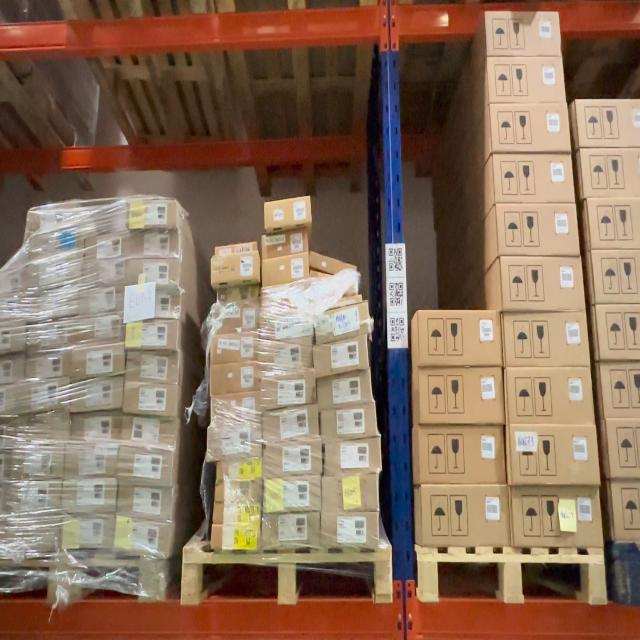box: (420, 484, 511, 550), (509, 487, 604, 548), (508, 422, 599, 485), (418, 423, 508, 484), (505, 367, 594, 427), (416, 364, 504, 424), (417, 307, 502, 366), (503, 312, 590, 368), (500, 254, 585, 310), (496, 202, 579, 259), (493, 153, 574, 205), (490, 101, 570, 153), (485, 10, 562, 60), (487, 56, 567, 104), (314, 334, 370, 378), (323, 437, 383, 478), (262, 439, 323, 479), (313, 302, 372, 343), (260, 512, 322, 551), (320, 511, 379, 551), (262, 475, 322, 514), (259, 372, 317, 411), (321, 402, 379, 441), (204, 422, 262, 461), (263, 402, 320, 441), (114, 516, 171, 555), (317, 374, 375, 411), (322, 477, 379, 514), (117, 447, 172, 485), (7, 482, 62, 520), (120, 417, 178, 451), (258, 344, 314, 379), (62, 479, 118, 514), (23, 285, 77, 321), (28, 252, 85, 286), (69, 377, 124, 412), (63, 514, 115, 551), (123, 382, 177, 417), (126, 350, 179, 385), (72, 344, 125, 379), (13, 445, 66, 480), (65, 444, 117, 479), (258, 311, 313, 344), (6, 522, 59, 556), (20, 377, 71, 412), (116, 488, 173, 519), (210, 330, 259, 366), (209, 361, 259, 396), (261, 251, 310, 286), (211, 392, 261, 426), (27, 320, 80, 352), (208, 303, 260, 335), (210, 251, 260, 284), (130, 287, 180, 320), (310, 271, 360, 302), (126, 319, 177, 349), (29, 226, 80, 256), (264, 196, 313, 226), (130, 229, 180, 258), (209, 525, 262, 551), (18, 413, 69, 440), (260, 230, 308, 258), (84, 232, 130, 261), (215, 456, 262, 484), (78, 287, 123, 316), (264, 283, 316, 308), (71, 416, 123, 441), (25, 352, 72, 379), (29, 211, 86, 233), (130, 198, 176, 225), (210, 502, 261, 526), (130, 259, 178, 284), (81, 259, 129, 284), (78, 319, 125, 343), (215, 286, 261, 308), (213, 482, 261, 502), (309, 252, 357, 271), (215, 243, 259, 255)
